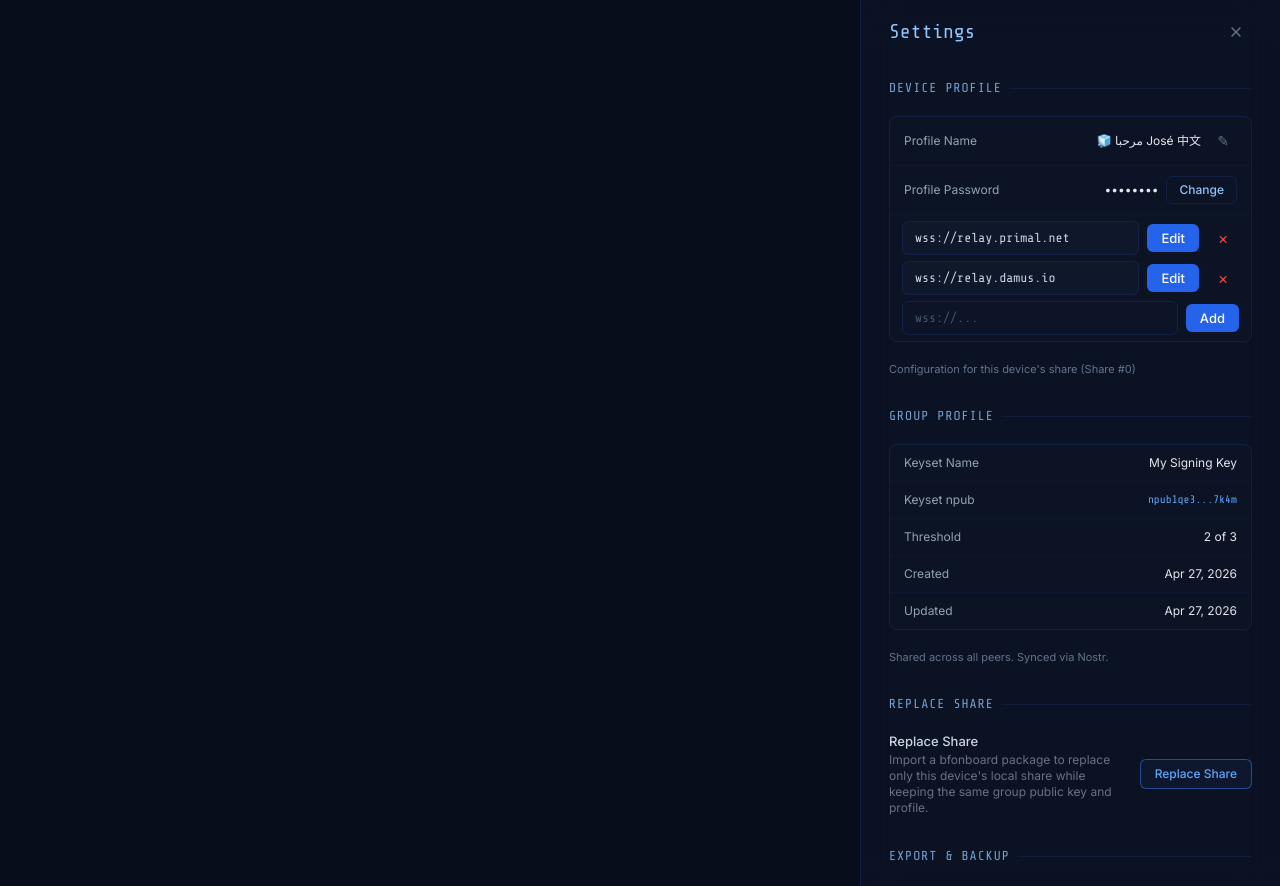
Test case: SettingsSidebar — Profile Name edit (VAL-SETTINGS-001/002/024/025) › renders unicode/emoji/RTL names as literal text (VAL-SETTINGS-024)
Expected: the text "🧊 مرحبا José 中文" is shown, [1097,133,1201,149]
Click the button named "Edit profile name".
click(1223, 141)  # box [1209,127,1237,155]
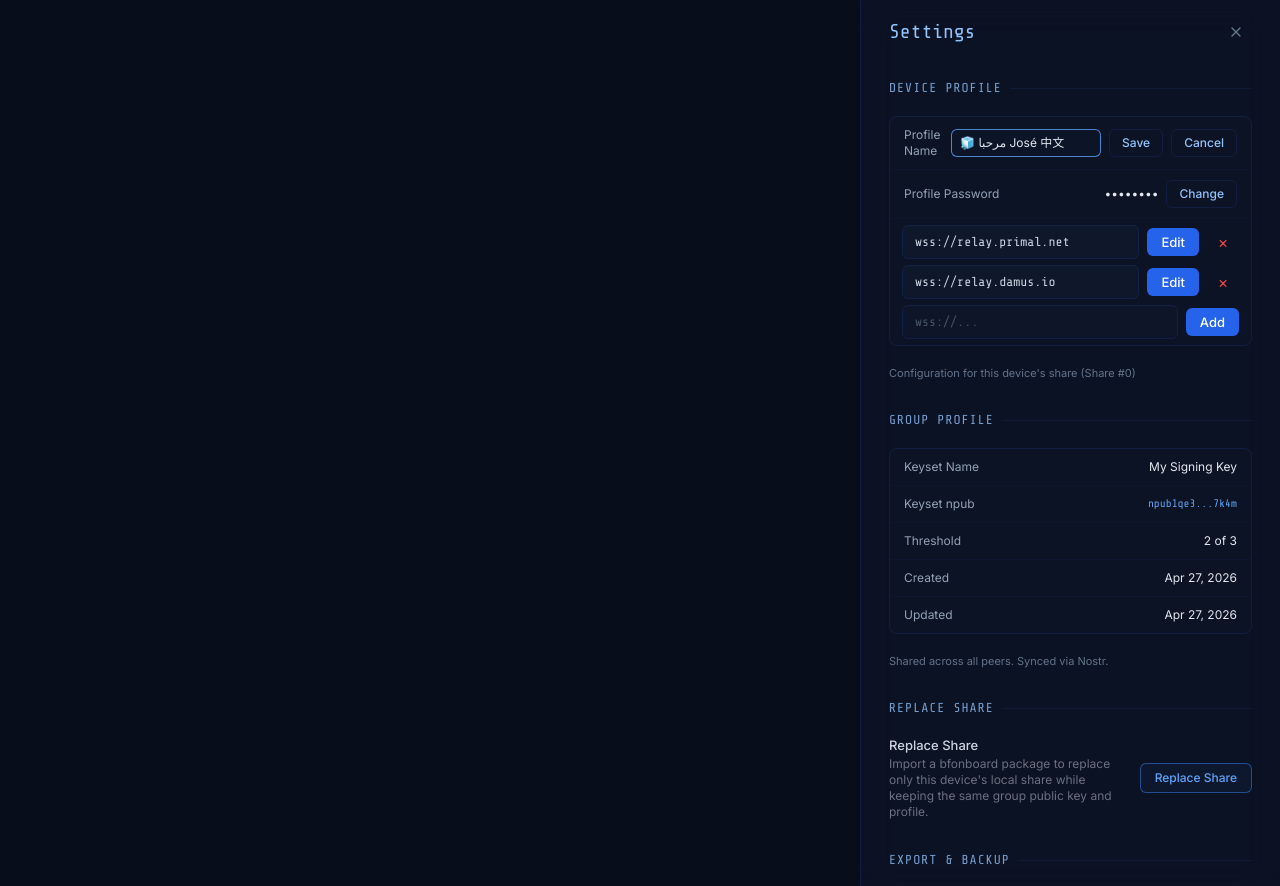
Expected: the field named "Profile Name" holds "🧊 مرحبا José 中文", [951,129,1101,157]
